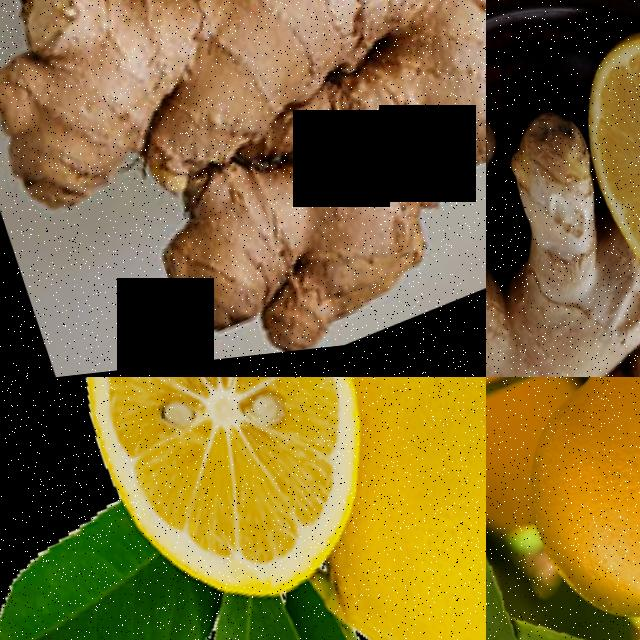ginger: (0, 0, 486, 377), (486, 125, 640, 377)
lemon: (47, 377, 404, 640), (486, 377, 640, 640), (333, 377, 486, 640), (565, 20, 640, 292)
